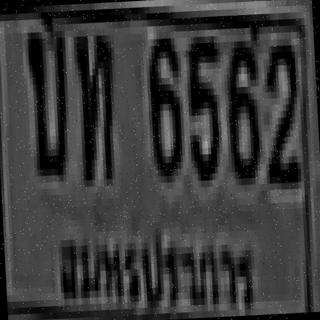A23: (73, 28, 115, 180)
A26: (24, 25, 69, 176)
N02: (259, 32, 301, 184)
N05: (182, 33, 224, 178)
N06: (145, 32, 184, 177), (222, 34, 261, 179)
P57: (44, 212, 260, 320)
